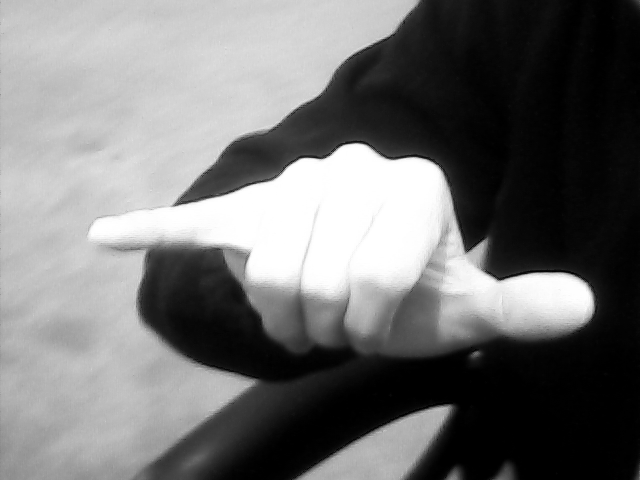aloha: (85, 143, 595, 363)
